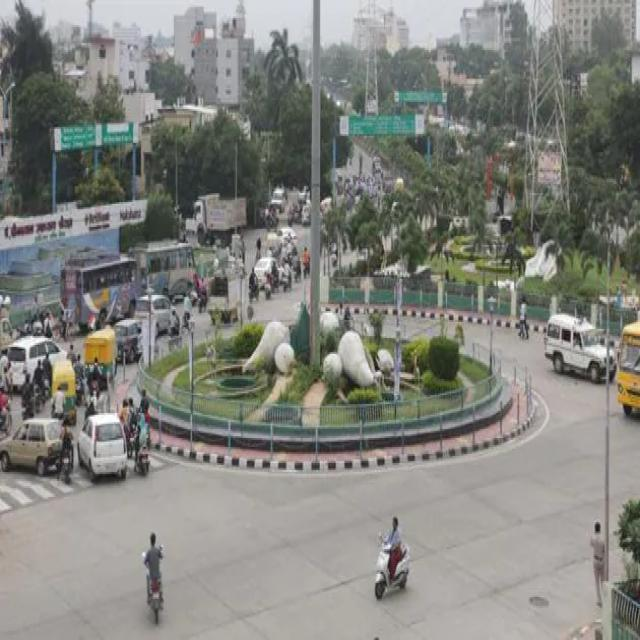Clean road: (0, 368, 640, 640)
